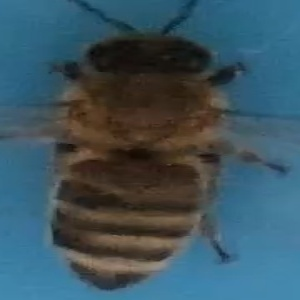bee: (35, 18, 292, 293)
